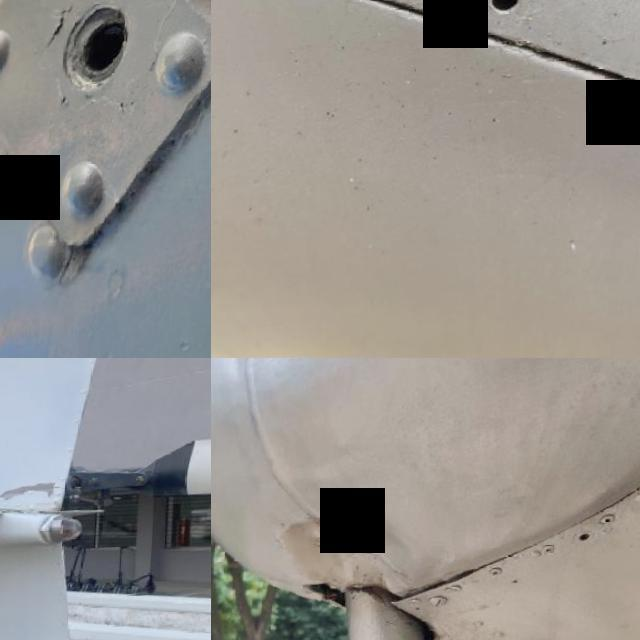Crack: (56, 490, 68, 494)
Dent: (265, 484, 440, 626)
Missing_Fastener: (10, 0, 183, 133), (449, 0, 556, 56)
